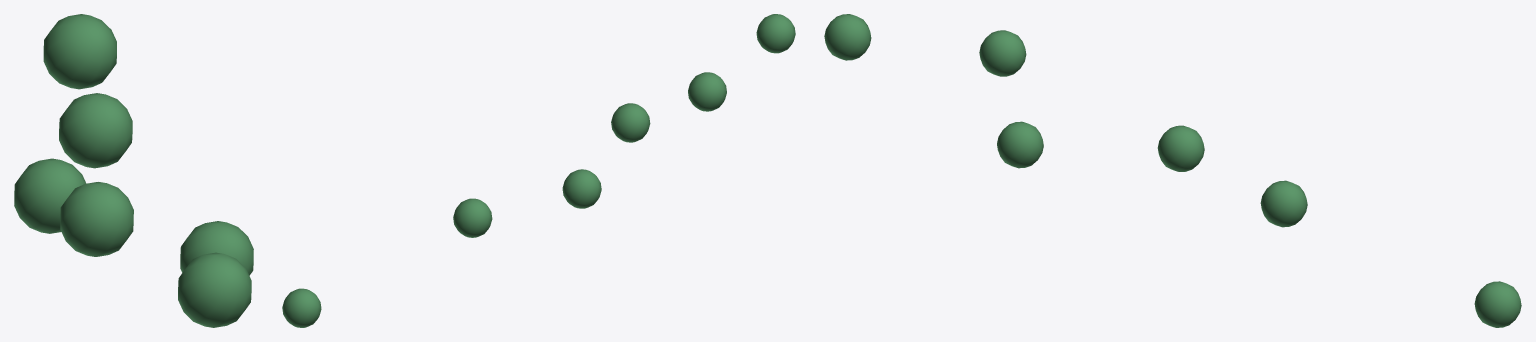
3 views of the same model, side by side, from view 1: azimuth 30°, elevation 25°; view 2: azimuth 150°, elevation 25°; view 3: azimuth 270°, elevation 25° (orthographic). The views are drawn at different scales.
Parts seen in each view (by area): view 1: 左侧肘淋巴结; view 2: 左侧肘淋巴结; view 3: 左侧肘淋巴结.
Part boxes in pixels (x1,y1,x2,y2): 左侧肘淋巴结: (14, 14, 253, 327); 左侧肘淋巴结: (282, 14, 795, 327); 左侧肘淋巴结: (824, 14, 1521, 327).
Size of the model in its own units: 0.0264 by 0.0172 by 0.0566.
